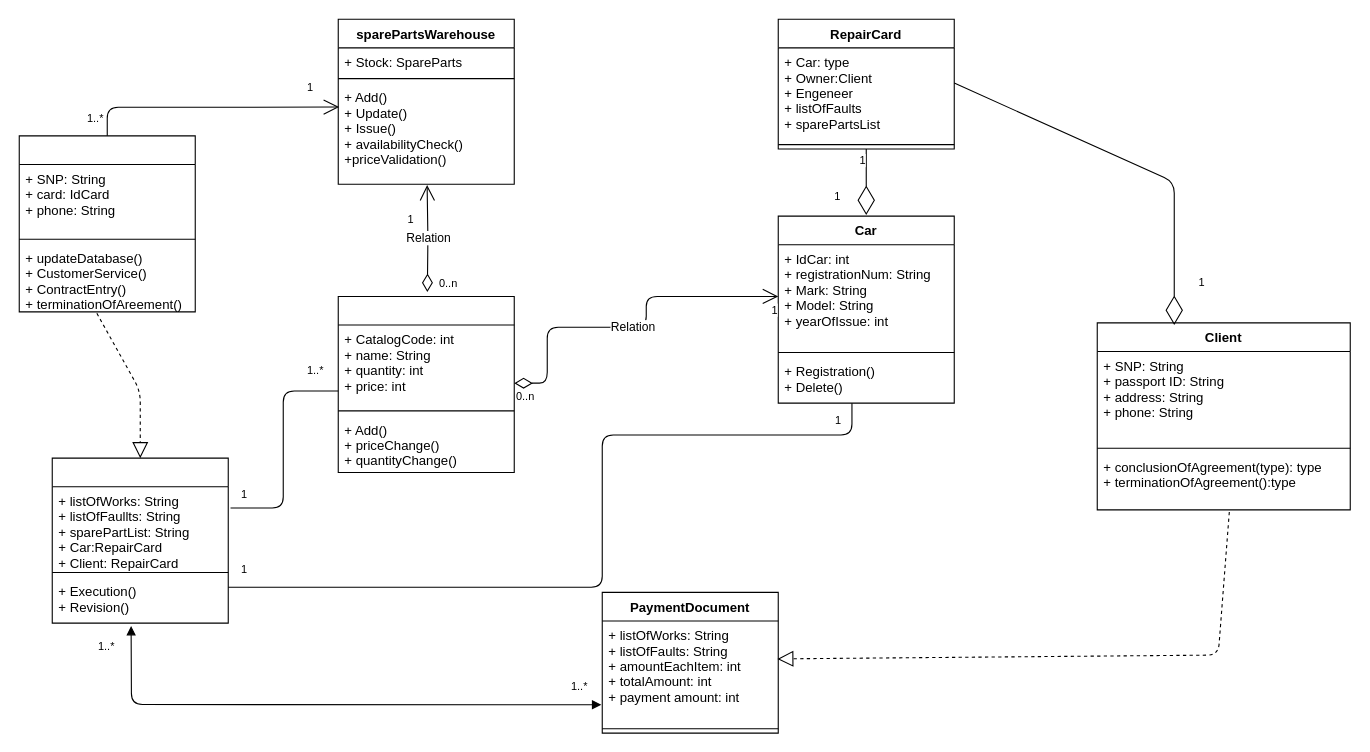
Image size: 1370x752. Some labels were removed from this diagram. The shapes that lost their labels are listed below. From the top down, each one's box as (x1, y1, x2, y2) in pixels, then its label:
(18, 135, 195, 312): Staff
(337, 295, 514, 472): SparePart
(51, 457, 228, 623): Service
